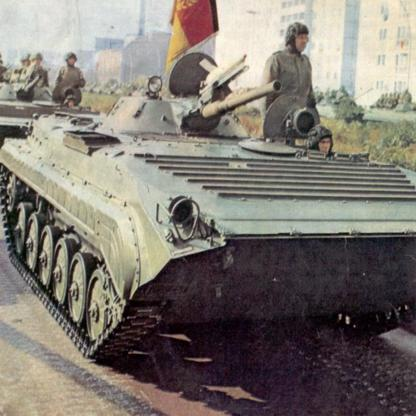Tank: (3, 53, 416, 372)
